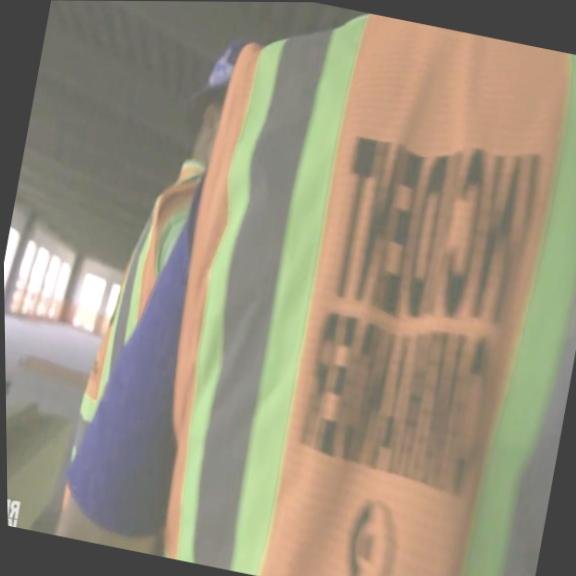safety_vest: (131, 1, 576, 576), (46, 144, 218, 553)
